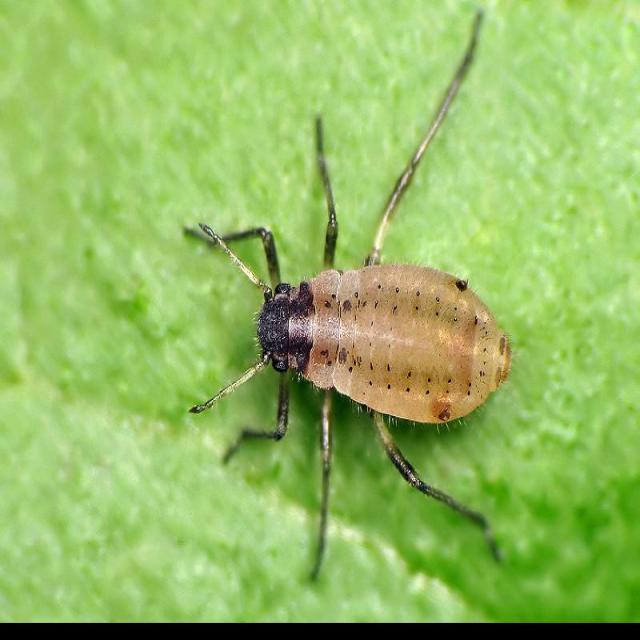Aphids: (163, 151, 525, 535)
